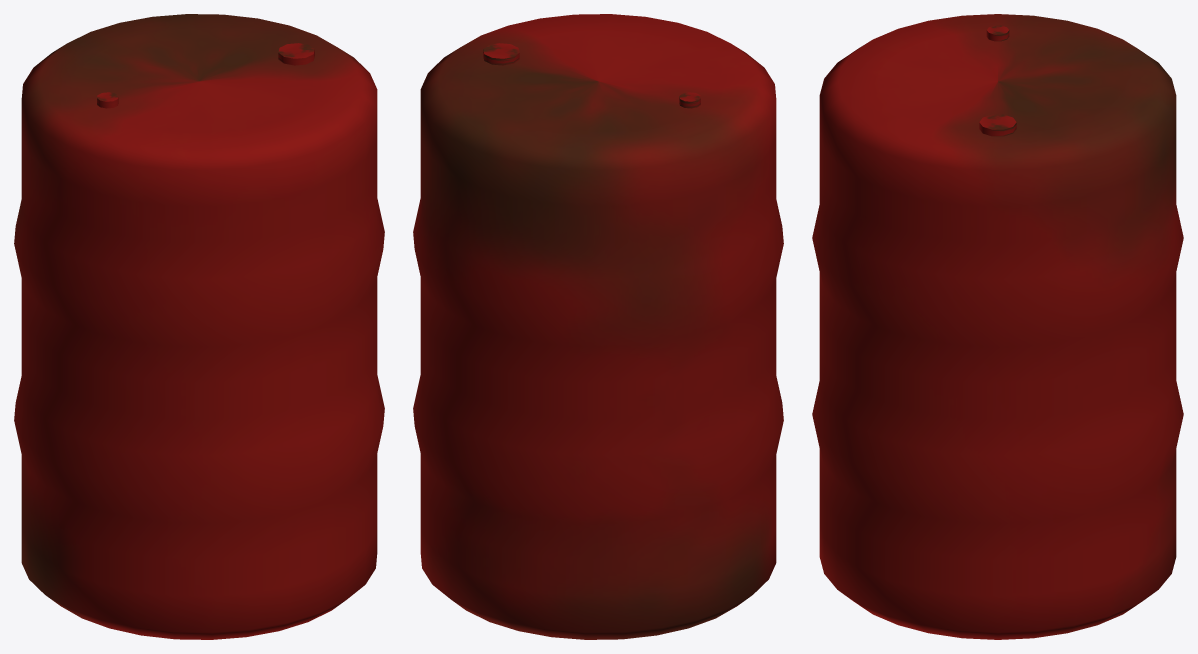
The model's file is barrel_L1.glb.
The picture shows the model from 3 angles, left to right: view 1: azimuth 30°, elevation 25°; view 2: azimuth 150°, elevation 25°; view 3: azimuth 270°, elevation 25°; orthographic projection.
Visible parts, largest first — view 1: drum, bung; view 2: drum, bung; view 3: drum, bung.
Part boxes in pixels (bbox=[...]): drum: bbox=[14, 14, 384, 639]; bung: bbox=[278, 43, 314, 65]; drum: bbox=[413, 14, 783, 639]; bung: bbox=[483, 43, 519, 65]; drum: bbox=[812, 14, 1183, 639]; bung: bbox=[979, 114, 1016, 136].
Bounding box in the file's own units: 0.597 × 0.882 × 0.597.
Materials: 1 (1 with a texture image).
